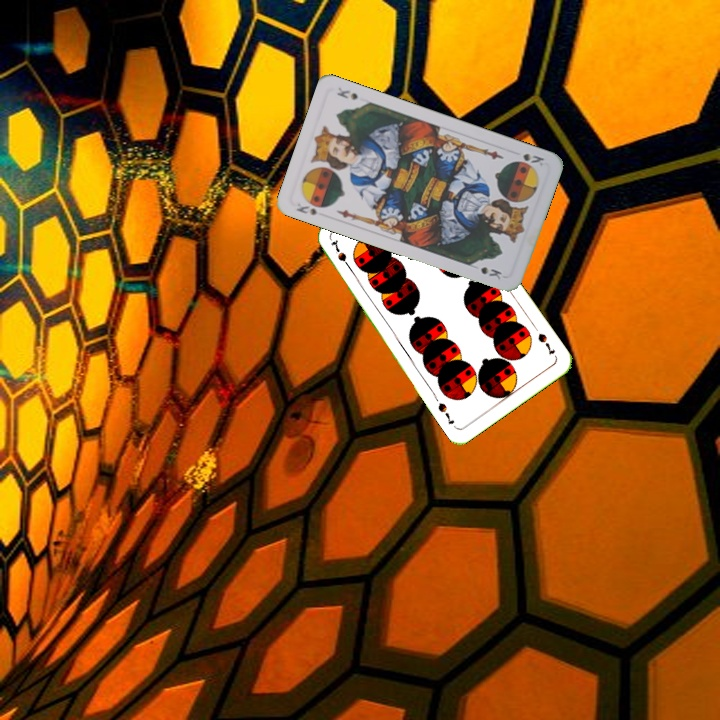S7: (326, 237, 355, 274), (534, 329, 558, 357)
SK: (292, 199, 319, 218), (519, 149, 547, 166)
